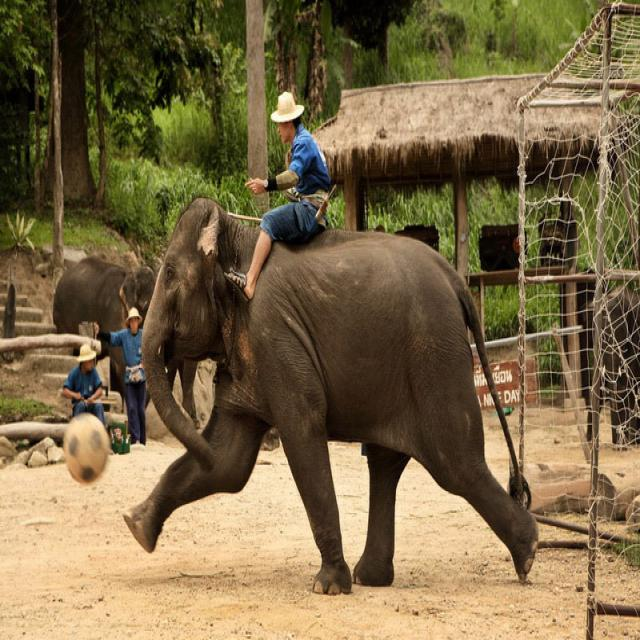Elephant: (102, 191, 557, 639)
